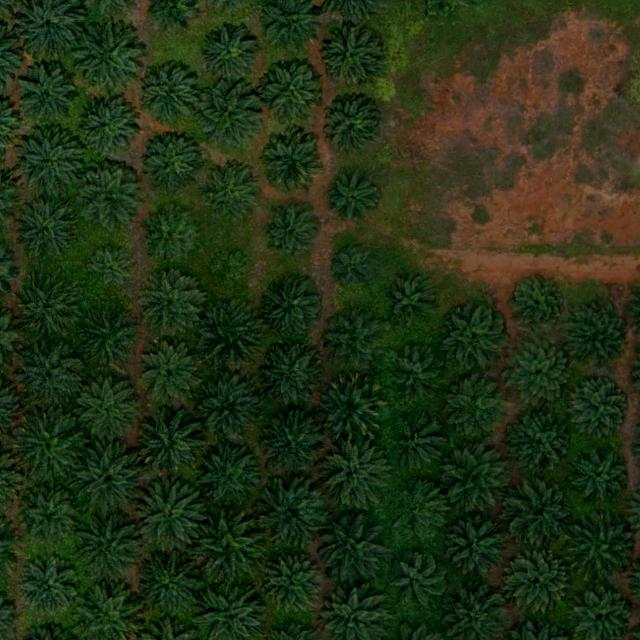Kelapa_Sawit: (255, 55, 325, 126), (192, 79, 262, 150), (74, 510, 144, 581), (504, 338, 574, 409), (507, 408, 577, 479), (567, 510, 637, 581), (73, 24, 143, 94), (315, 372, 385, 442), (255, 273, 325, 343), (255, 340, 325, 410), (193, 296, 263, 366), (192, 372, 262, 442), (15, 128, 85, 198), (12, 341, 82, 411), (14, 405, 84, 475), (74, 443, 144, 513), (135, 406, 205, 476), (133, 481, 203, 551), (134, 549, 204, 619), (191, 439, 261, 509), (190, 512, 260, 582), (255, 479, 325, 549), (318, 437, 388, 507), (315, 510, 385, 580), (443, 444, 513, 514), (441, 511, 511, 581), (506, 479, 576, 549), (321, 583, 390, 640), (15, 64, 77, 127), (319, 23, 381, 86), (320, 308, 382, 371), (202, 160, 264, 223), (139, 128, 201, 191), (141, 203, 203, 266), (136, 270, 198, 333), (136, 339, 198, 402), (76, 94, 138, 157), (77, 164, 139, 227), (78, 305, 140, 368), (77, 378, 139, 441), (14, 194, 76, 257), (12, 278, 74, 341), (259, 411, 321, 474), (260, 551, 322, 614), (508, 549, 570, 612), (569, 308, 631, 371), (15, 0, 82, 58), (134, 63, 196, 125), (196, 22, 258, 84), (320, 94, 382, 156), (259, 132, 321, 194), (17, 555, 79, 617), (441, 302, 503, 364), (449, 376, 511, 438), (569, 375, 631, 437), (570, 445, 632, 507), (198, 582, 265, 639), (78, 581, 141, 640), (445, 583, 506, 640), (571, 581, 629, 639), (324, 172, 379, 227), (383, 273, 438, 328), (21, 491, 76, 546), (390, 417, 445, 472), (393, 348, 447, 403), (263, 201, 317, 256), (392, 482, 446, 537), (389, 553, 443, 608), (508, 275, 562, 330), (261, 0, 317, 52), (85, 246, 131, 292), (146, 0, 197, 34), (332, 247, 371, 286), (208, 249, 246, 288)
